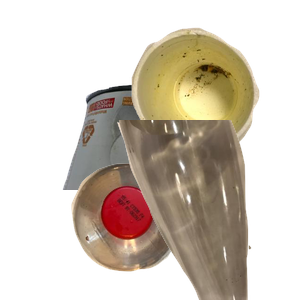glass: (115, 120, 300, 300)
metal: (60, 82, 300, 262)
plastic: (69, 161, 245, 300)
trash: (129, 25, 300, 173)
